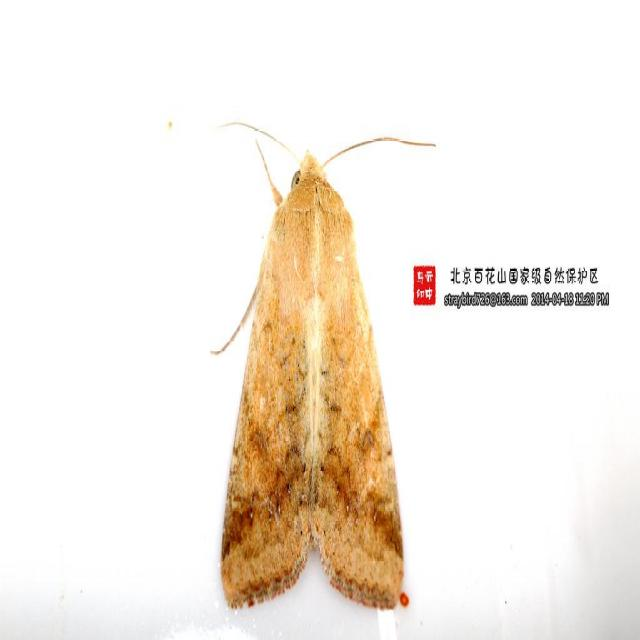BeetArmyWorm-Adult-: (203, 104, 445, 616)
